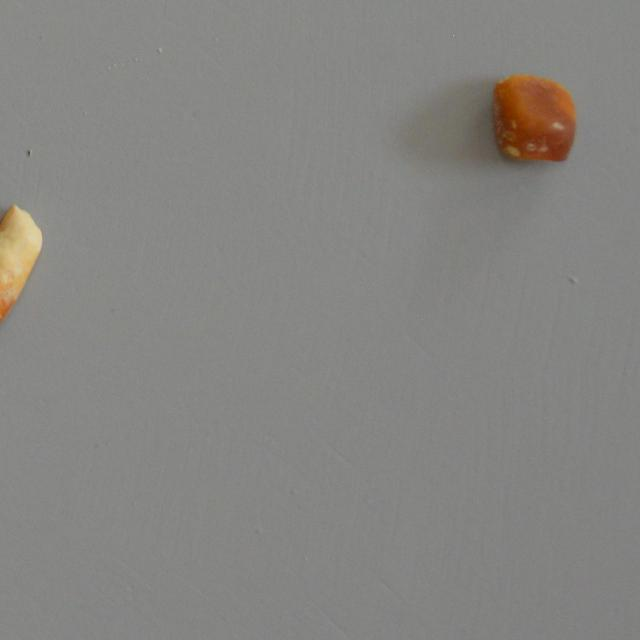dañado: (492, 74, 574, 164), (0, 204, 42, 332)
